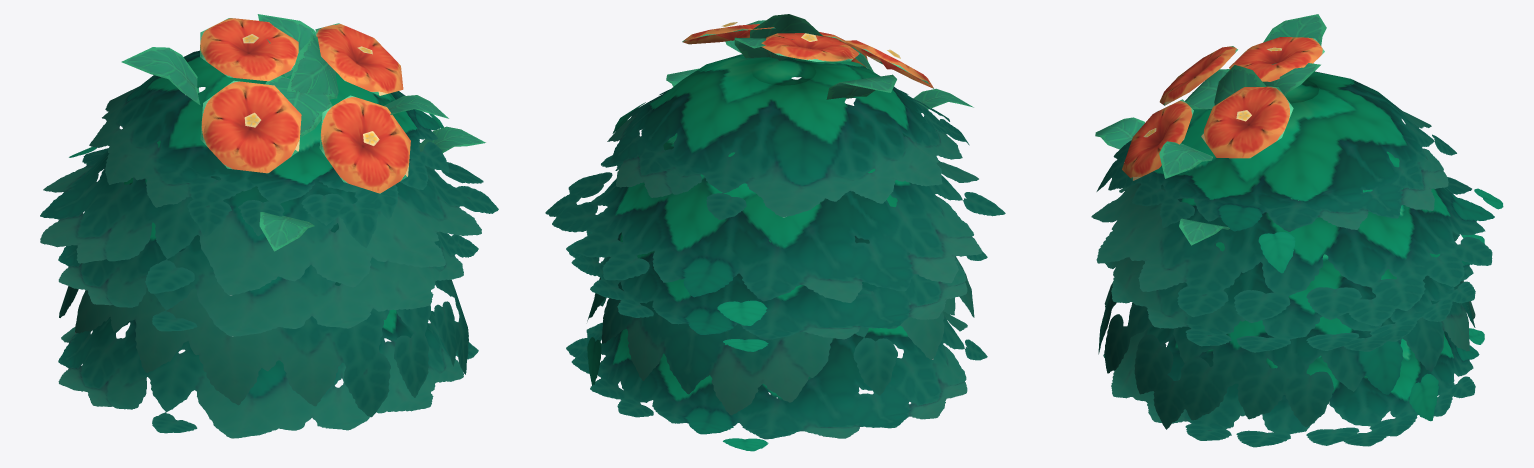
File: HibiscusBush.fbx
The picture shows the model from 3 angles, left to right: view 1: azimuth 30°, elevation 25°; view 2: azimuth 150°, elevation 25°; view 3: azimuth 270°, elevation 25°; orthographic projection. The views are drawn at different scales.
Parts seen in each view (by area): view 1: HibiscusBush; view 2: HibiscusBush; view 3: HibiscusBush.
Boxes of the visible parts, x1,y1,x2,y2 form: HibiscusBush: (40,14,498,438); HibiscusBush: (545,14,1005,451); HibiscusBush: (1091,14,1503,447).
Bounding box in the file's own units: 1.27 × 0.9495 × 1.27.
